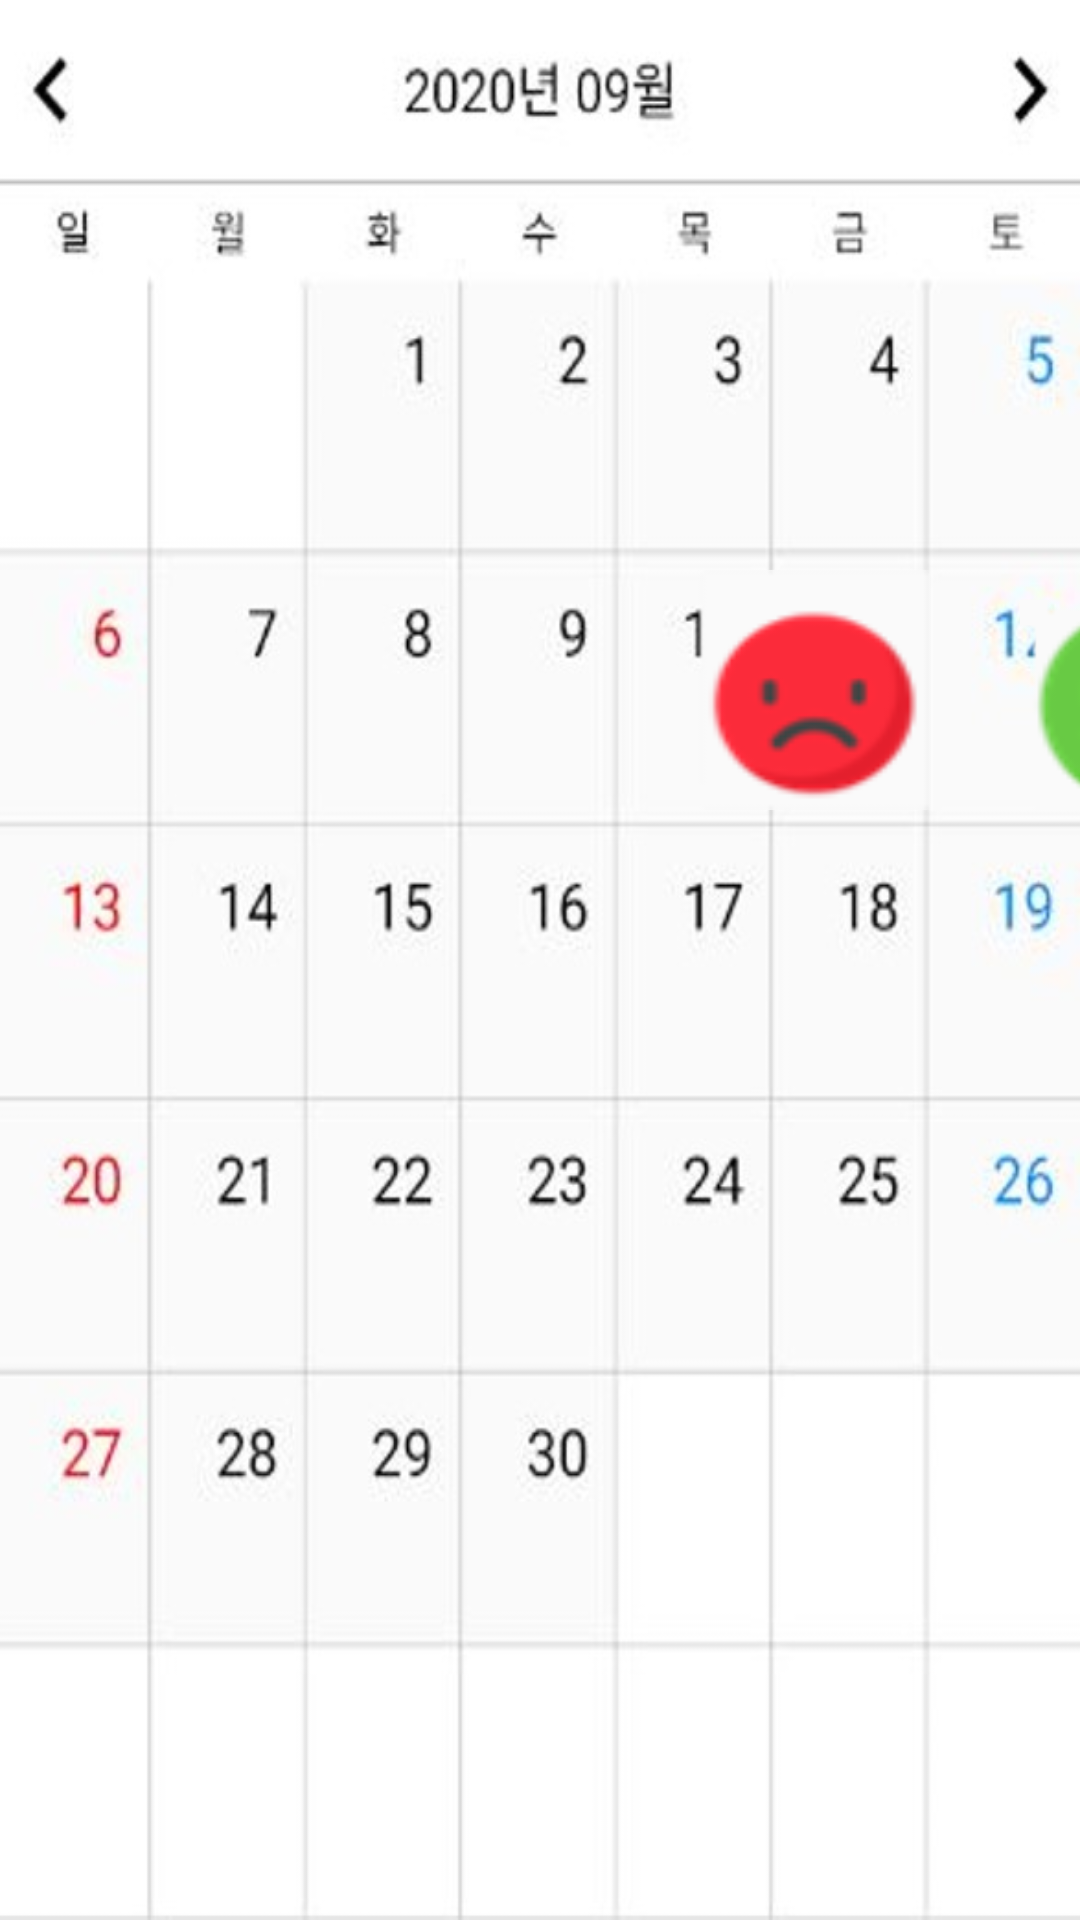

Icons on this 1080x1920 Android screen, each with its box as BBox(x1, y1, x2, y2):
bad: BBox(712, 611, 917, 796)
